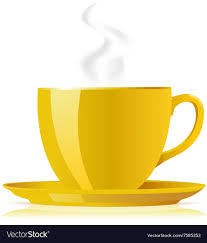cup: (35, 85, 205, 191)
